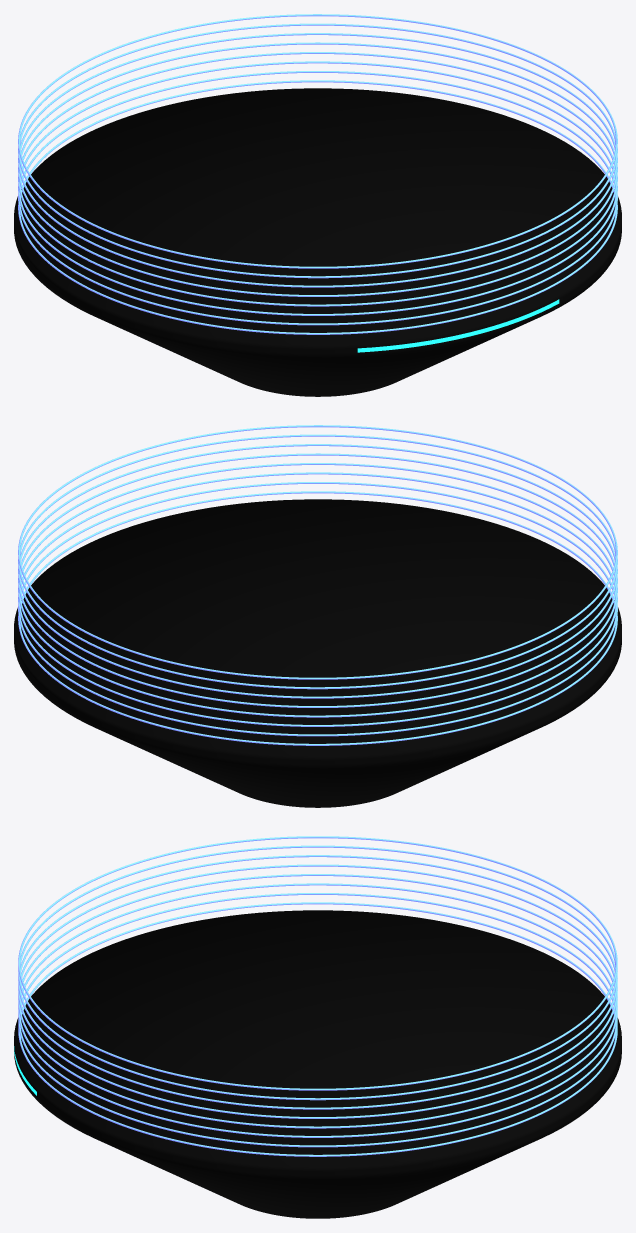
The model's file is floor.glb.
The picture shows the model from 3 angles, top to bottom: view 1: azimuth 30°, elevation 25°; view 2: azimuth 150°, elevation 25°; view 3: azimuth 270°, elevation 25°; orthographic projection.
Visible parts, largest first — view 1: Circle, BézierCircle.001; view 2: Circle, BézierCircle.001; view 3: Circle, BézierCircle.001.
Part boxes in pixels (<box>): Circle: <box>14,88,621,396</box>; BézierCircle.001: <box>18,14,617,334</box>; Circle: <box>14,499,621,807</box>; BézierCircle.001: <box>18,425,617,745</box>; Circle: <box>14,910,621,1218</box>; BézierCircle.001: <box>18,836,617,1156</box>.
Bounding box in the file's own units: 3.5 × 1.34 × 3.5.
